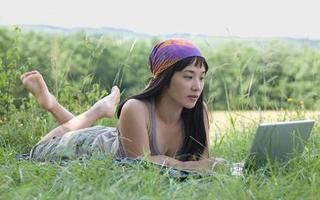person: (18, 39, 227, 180)
